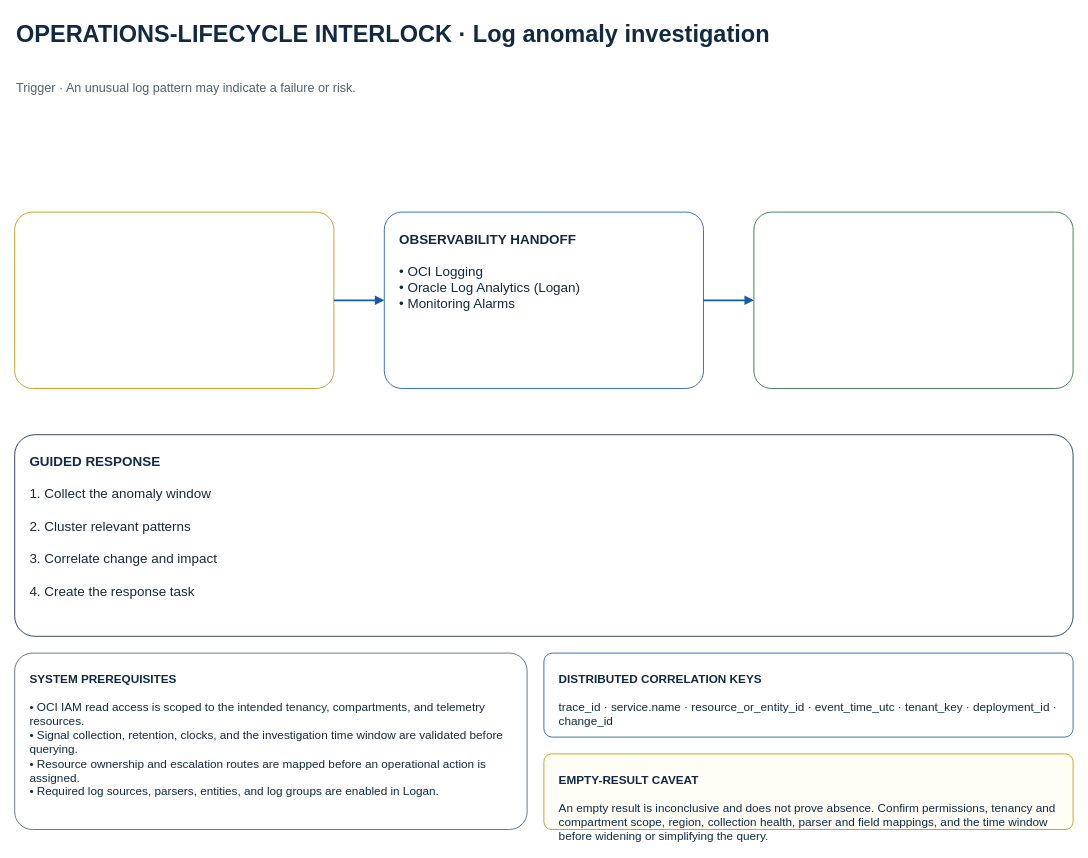
The diagram is 1088 pixels wide and 858 high, and some of its shapes have lost their labels. Each missing label, with the centre of its shape:
"OPERATIONAL OUTCOME • Turn an anomaly into an actionable root-cause hypothesis." goes at point (913, 299).
"SOURCE EVIDENCE • Application logs • Infrastructure logs • Change context" goes at point (174, 299).
